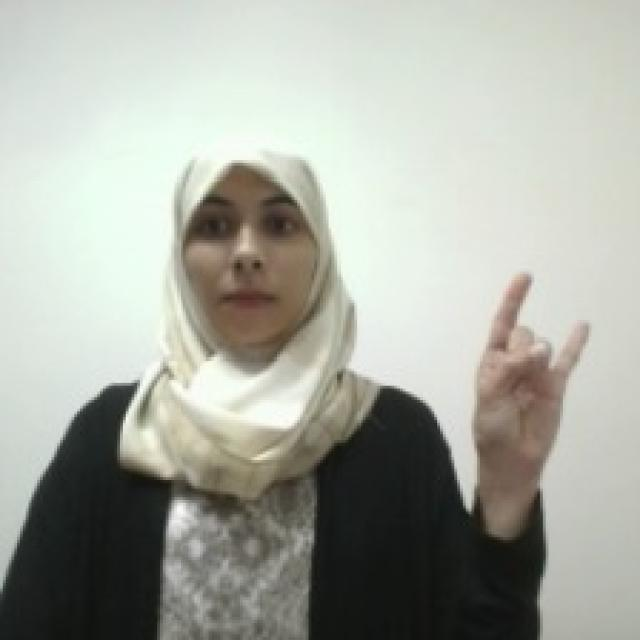No: (469, 263, 594, 467)
